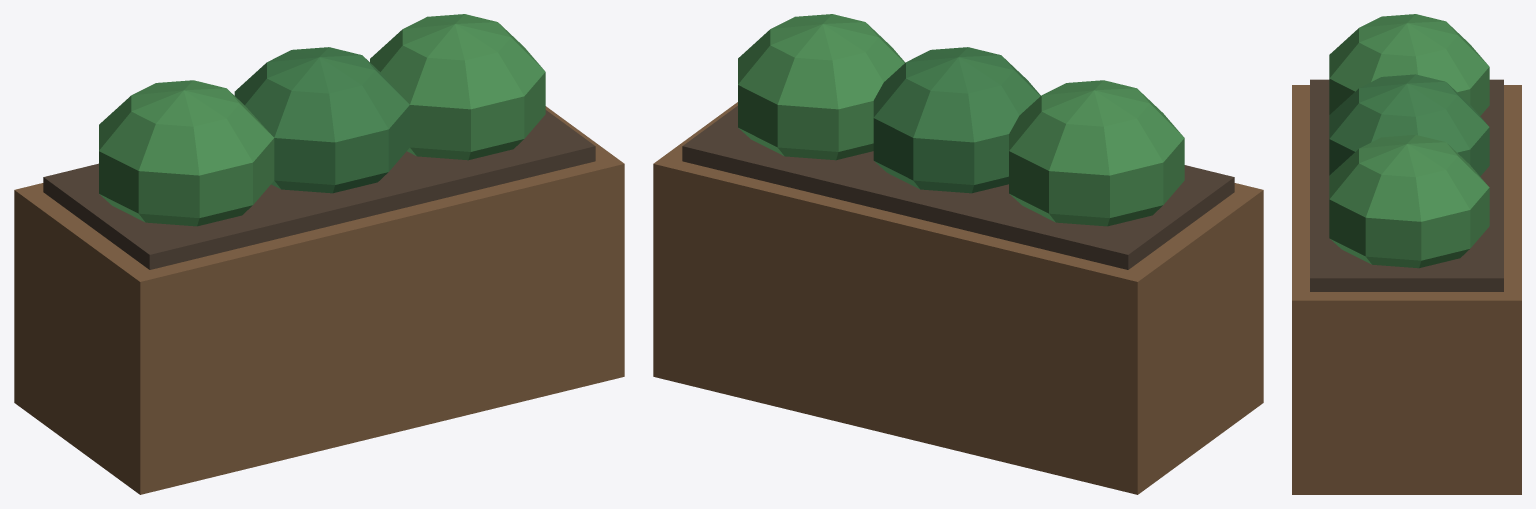
File: planter_box.glb
The picture shows the model from 3 angles, left to right: view 1: azimuth 30°, elevation 25°; view 2: azimuth 150°, elevation 25°; view 3: azimuth 270°, elevation 25°; orthographic projection. The views are drawn at different scales.
Parts seen in each view (by area): view 1: planter_box; view 2: planter_box; view 3: planter_box.
Boxes of the visible parts, box(x1,y1,x2,y2) form: planter_box: box(14, 14, 624, 494); planter_box: box(653, 14, 1263, 494); planter_box: box(1292, 14, 1521, 494).
Bounding box in the file's own units: 1 × 0.656 × 0.45.
